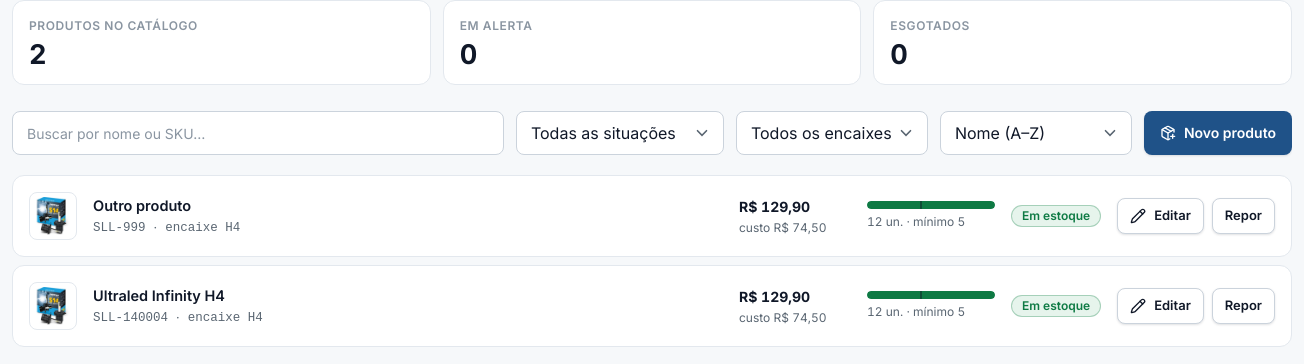
Scenario: Stock › filtra por nome ou SKU
This screenshot has width=1304, height=364.
Expected: the text "Ultraled Infinity H4" is shown, [93,287,225,304]
Type "SLL-999" into the search field labelled "Buscar por nome ou SKU…".
click(258, 133); type("SLL-999")  # box [12,111,504,155]
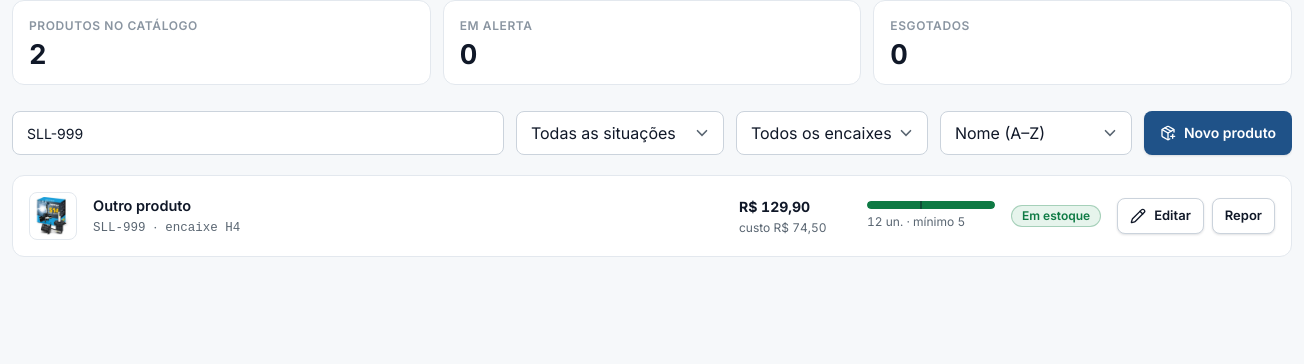
Expected: the text "Outro produto" is shown, [93,197,191,214]
Result: the text "Ultraled Infinity H4" is gone
